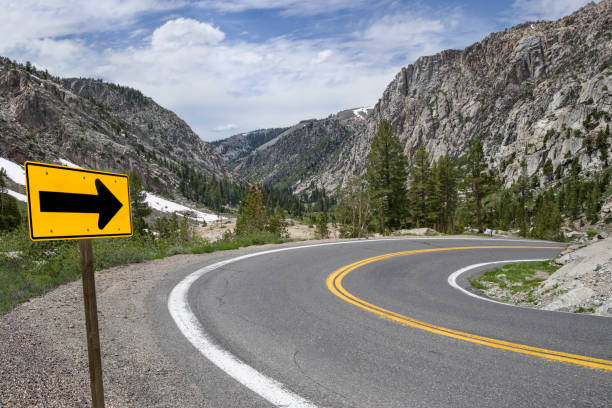rightTrun: (225, 211, 463, 408)
